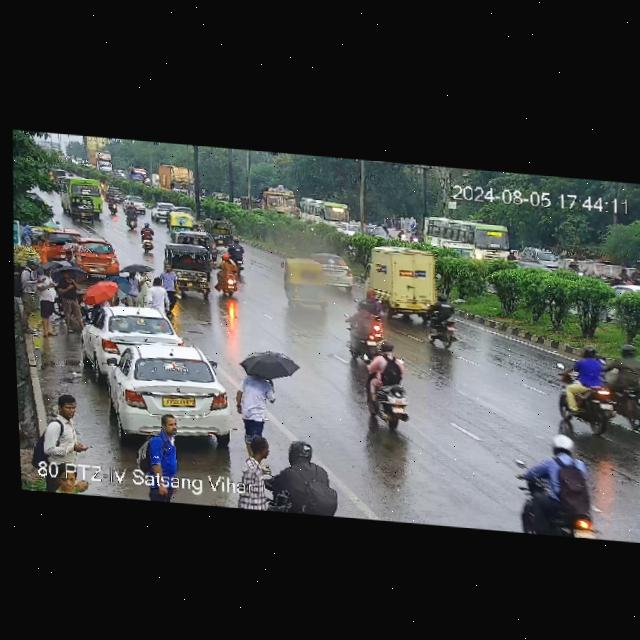bus: (419, 215, 513, 267), (57, 175, 114, 220), (299, 197, 354, 228)
car: (87, 337, 234, 448), (83, 303, 179, 365), (161, 243, 218, 296), (281, 257, 331, 310), (69, 237, 121, 275), (520, 239, 567, 271), (308, 250, 348, 275), (205, 216, 238, 246), (173, 230, 214, 249), (148, 200, 182, 222), (164, 213, 198, 233), (121, 194, 146, 211), (105, 185, 126, 198)
motorcycle: (503, 427, 616, 540), (546, 322, 640, 438), (354, 336, 411, 429), (419, 293, 469, 350), (214, 259, 246, 297), (222, 239, 252, 267), (136, 223, 159, 254), (107, 195, 122, 215)
person: (279, 441, 346, 517), (40, 396, 88, 494), (235, 363, 283, 443), (136, 415, 187, 482), (232, 444, 277, 507), (33, 263, 64, 331), (55, 270, 86, 332), (16, 260, 42, 328), (140, 276, 175, 315), (157, 264, 180, 295)
truck: (354, 242, 449, 324), (241, 190, 301, 217), (154, 163, 197, 199), (83, 147, 116, 173)
